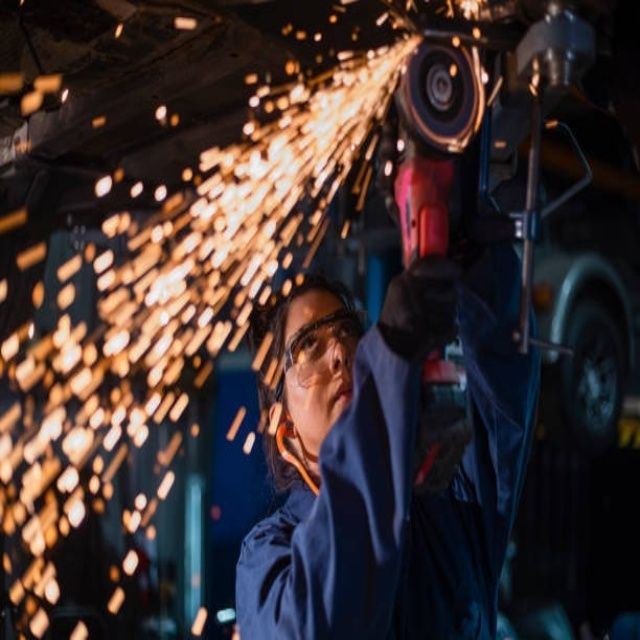Gafas: (279, 306, 362, 387)
Guantes: (378, 243, 468, 362)
Sin_mascara: (315, 381, 352, 417)
